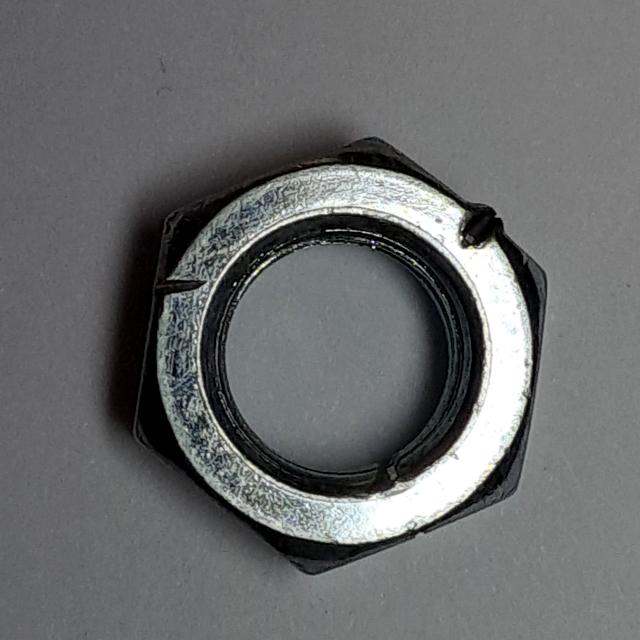Scratches: (126, 111, 561, 593)
